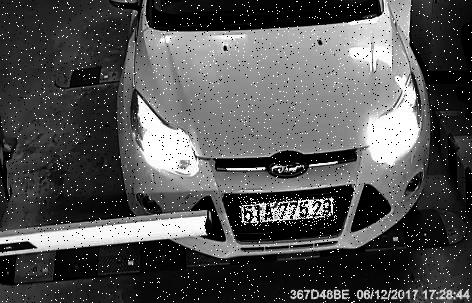License-plate: (241, 198, 339, 227)
